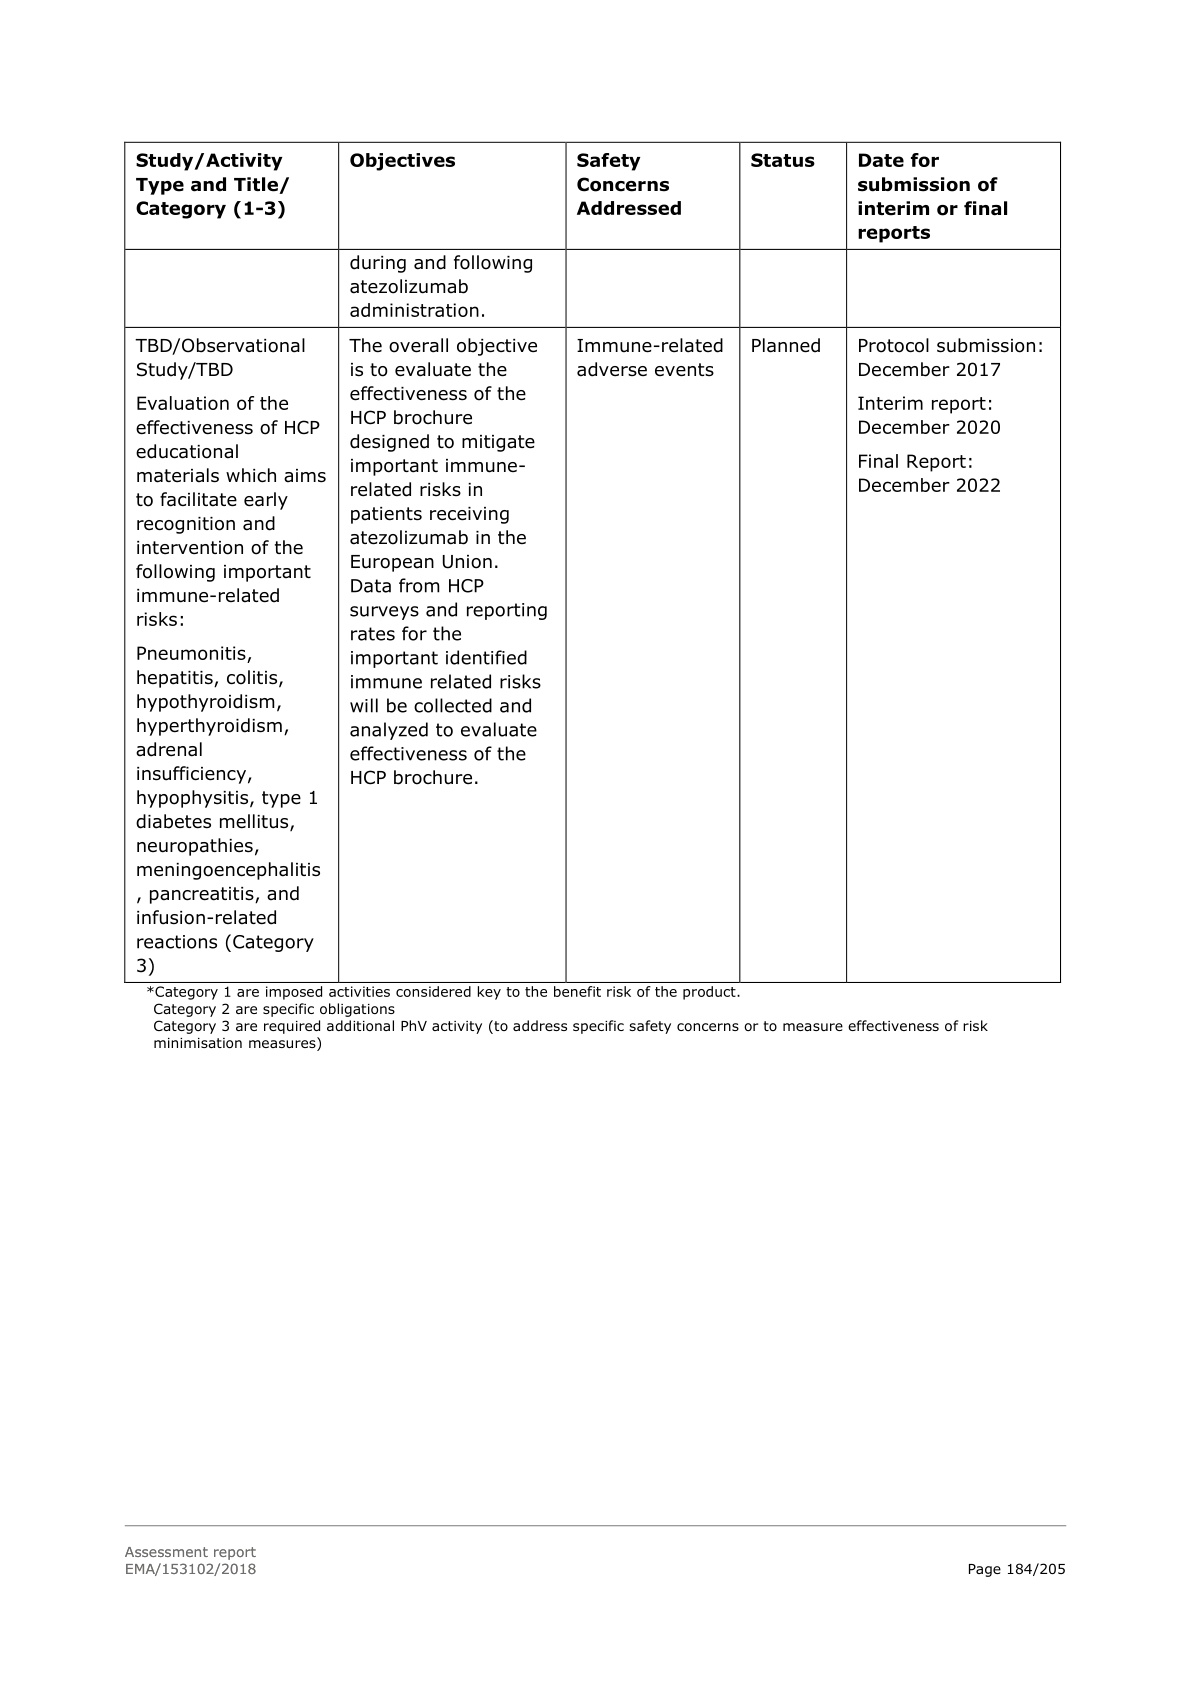full_lined: (124, 140, 1063, 984)
